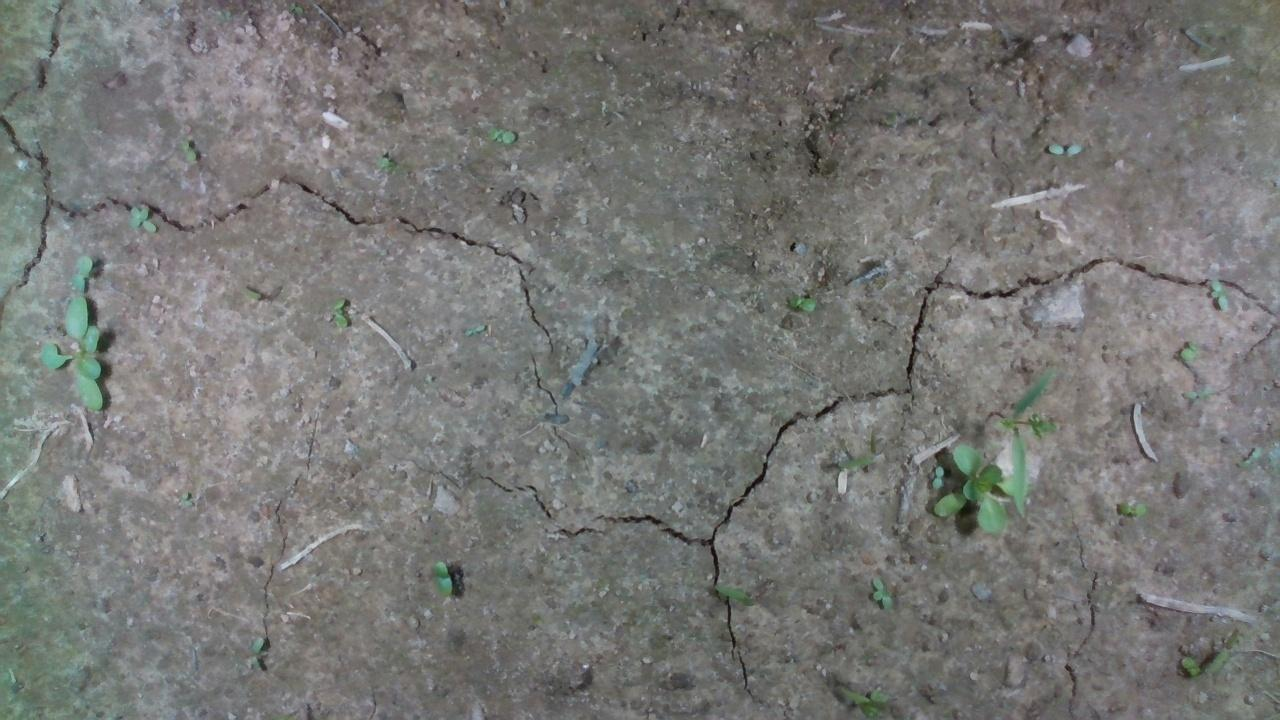weed: (316, 293, 378, 330), (422, 558, 460, 600), (177, 132, 219, 167), (118, 204, 164, 234), (867, 573, 896, 616), (1208, 279, 1234, 323), (785, 287, 829, 310), (1040, 137, 1084, 159), (490, 124, 522, 148), (1170, 334, 1194, 365), (1120, 498, 1151, 522), (372, 151, 397, 168), (930, 464, 943, 490)
